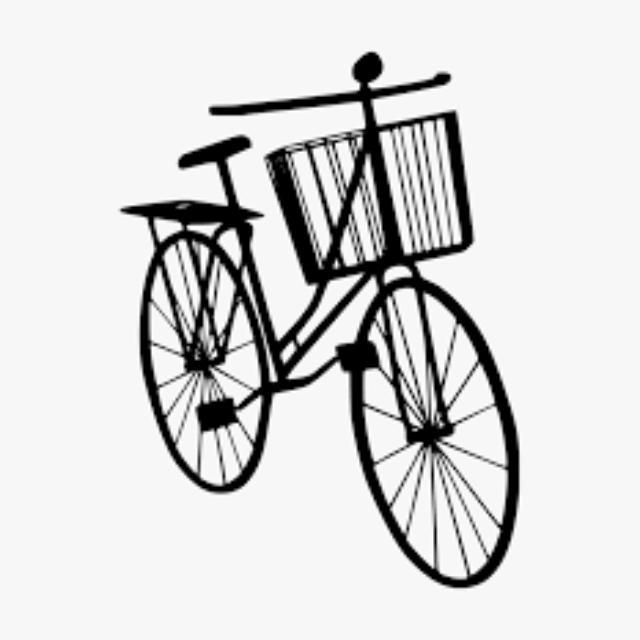obstacle: (122, 49, 544, 591)
